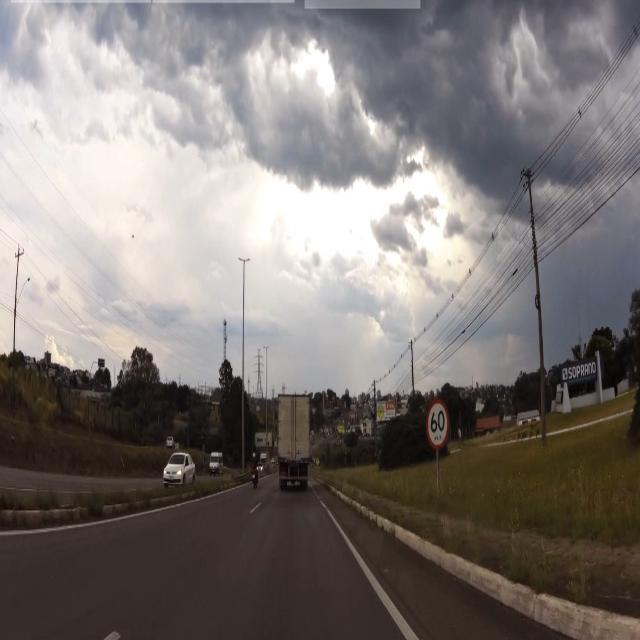R-19: (428, 402, 448, 452)
